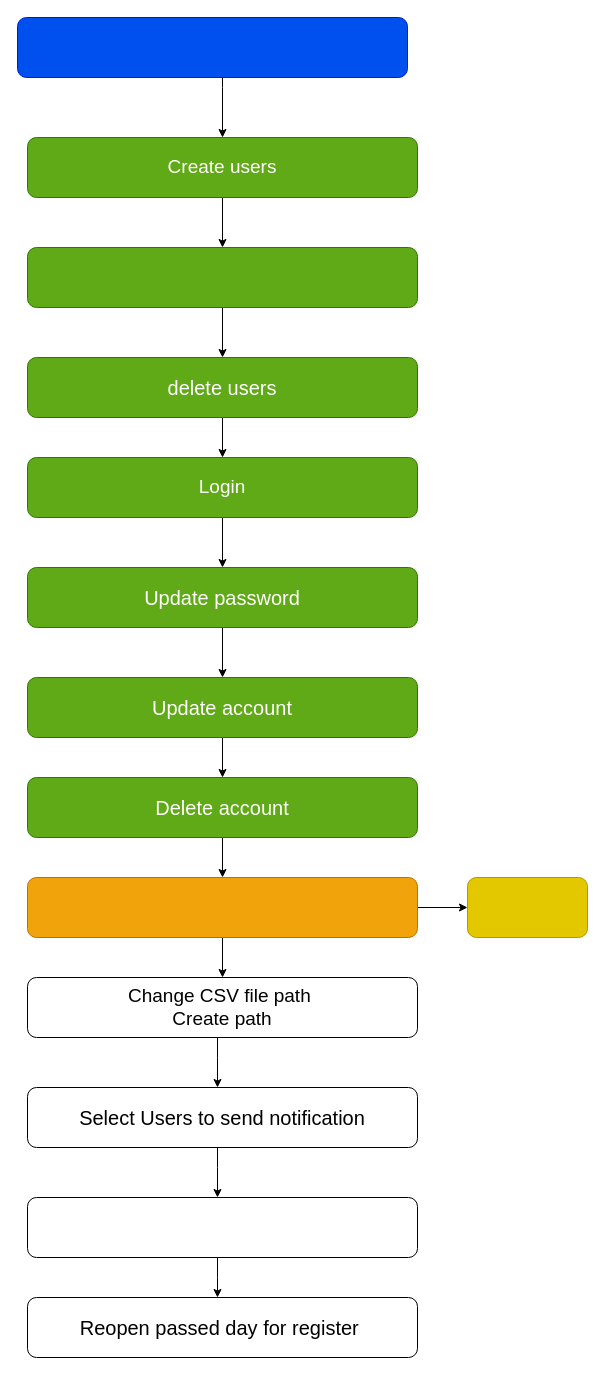
The diagram is 605 pixels wide and 1375 high, and some of its shapes have lost their labels. The centre of each missing label's shape, as x and y in pixels:
All users: pixel 212 47
get all users: pixel 222 277
Reset password: pixel 222 907
Select IP addresses: pixel 222 1227
